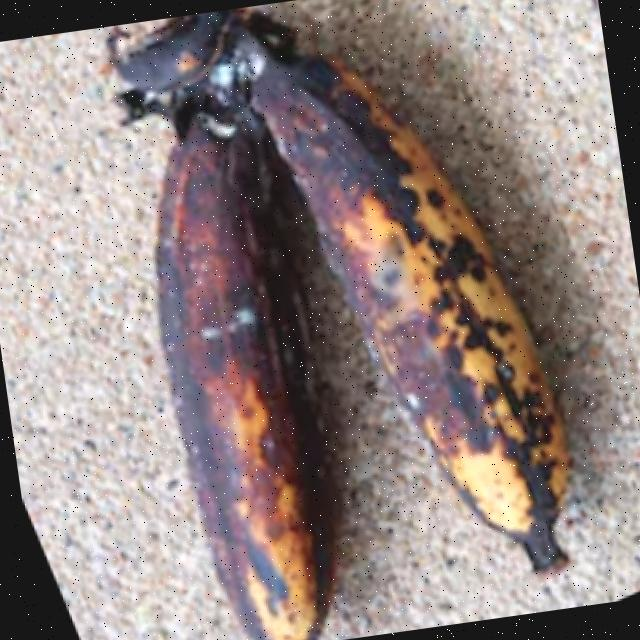Rotten: (230, 0, 615, 624), (56, 2, 372, 640)
